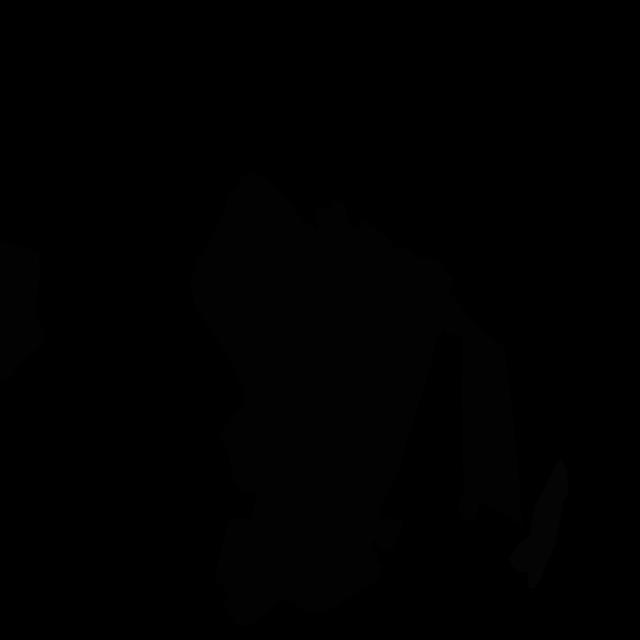cardboard: (252, 199, 454, 522), (190, 170, 334, 495), (214, 458, 404, 627), (442, 293, 522, 526), (0, 240, 46, 381)
soft_plastic: (509, 459, 568, 589)
